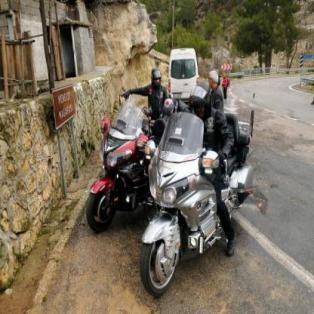Motocicleta: (138, 105, 257, 308), (78, 97, 160, 236)
